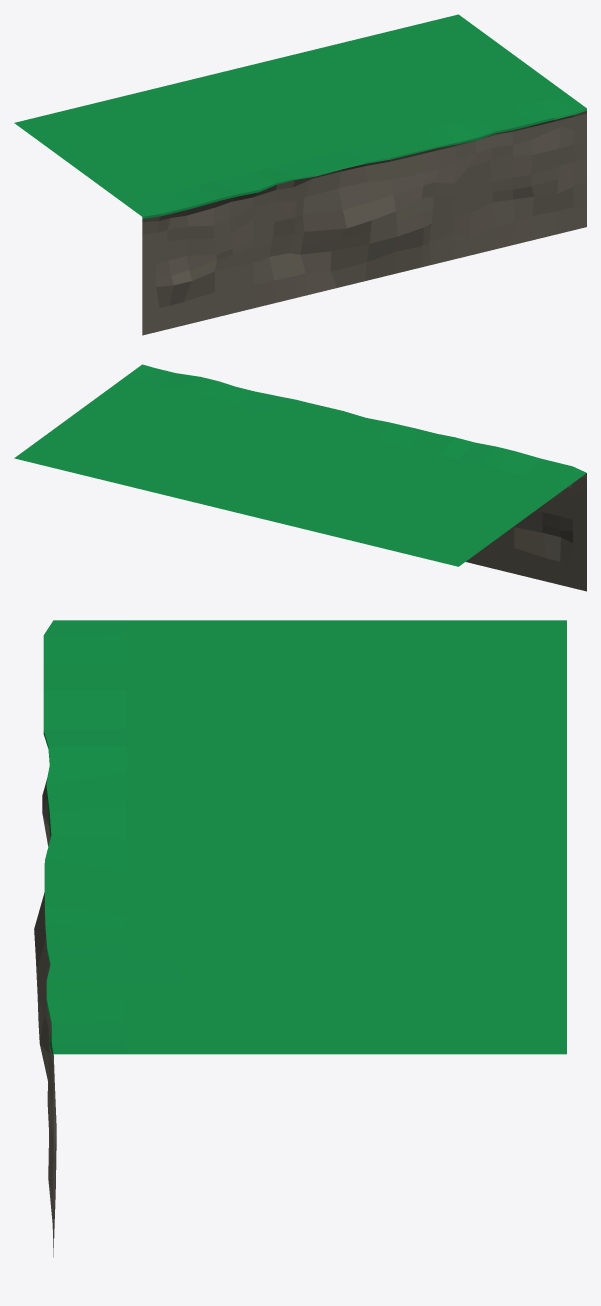
File: Plain_End_L.fbx
3 views of the same model, one above another, from view 1: azimuth 30°, elevation 25°; view 2: azimuth 150°, elevation 25°; view 3: azimuth 270°, elevation 25° (orthographic). The views are drawn at different scales.
Parts seen in each view (by area): view 1: Plane; view 2: Plane; view 3: Plane.
Part boxes in pixels (x1,y1,x2,y2): Plane: (14,14,586,335); Plane: (14,364,586,591); Plane: (34,620,566,1257).
Size of the model in its own units: 40 by 10.39 by 20.75.
